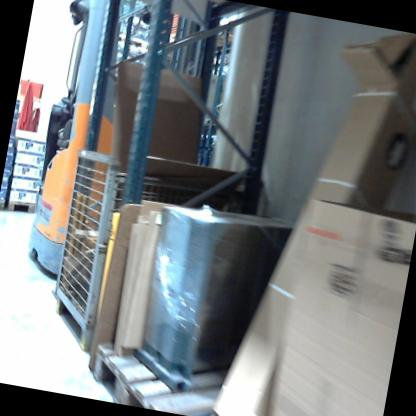forklift: (18, 0, 262, 312)
pallet: (90, 318, 271, 416), (104, 21, 159, 58), (6, 198, 35, 220)
stillage: (46, 134, 259, 381)
